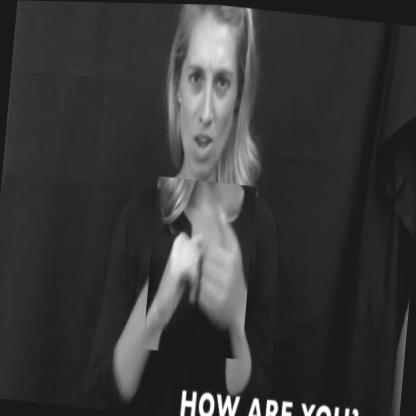HowAreYou: (142, 175, 257, 359)
